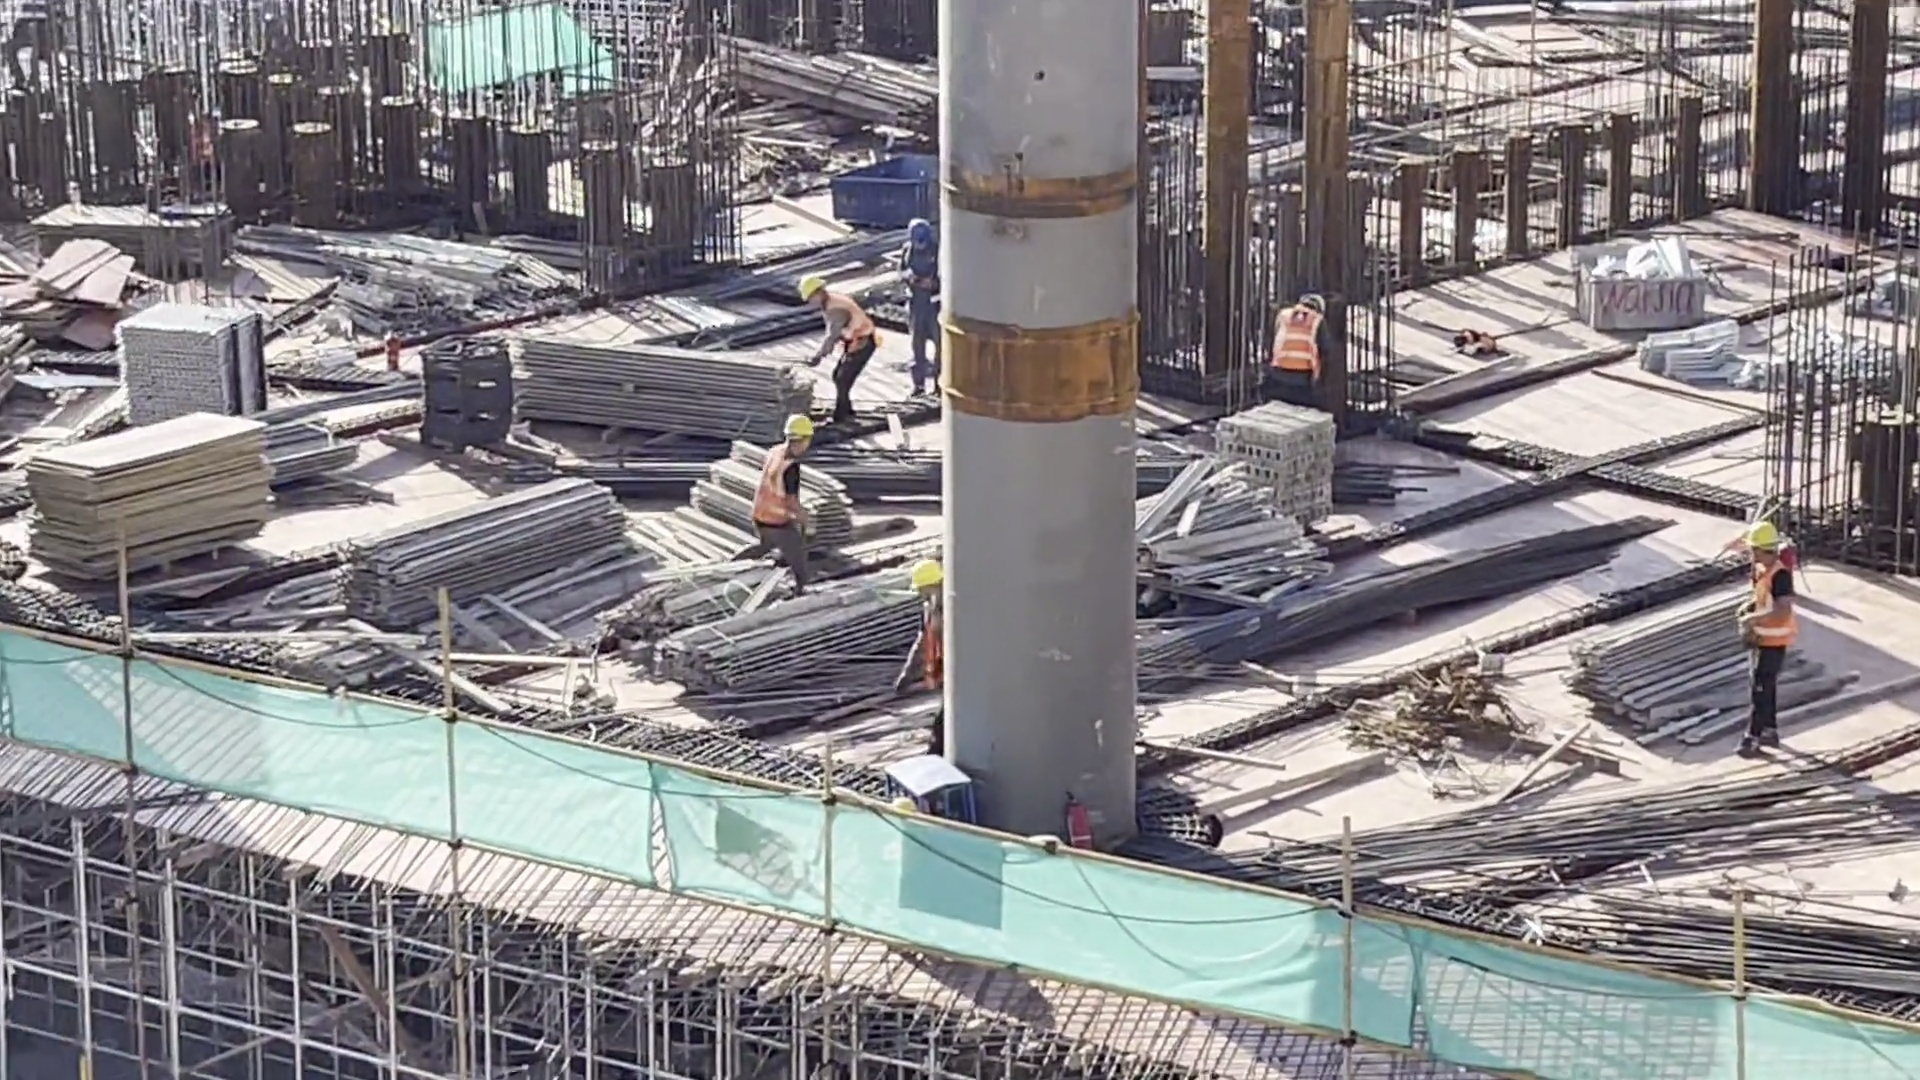board: (73, 392, 266, 592), (71, 189, 261, 274), (41, 246, 119, 357)
helmet: (798, 277, 848, 304), (1308, 292, 1343, 324), (1741, 517, 1771, 551), (909, 226, 936, 262), (913, 562, 944, 591), (778, 419, 809, 444)
hopper: (1559, 242, 1701, 322), (834, 149, 943, 237)
person: (1728, 515, 1786, 740), (773, 415, 818, 615), (819, 258, 873, 413), (908, 546, 953, 726), (901, 203, 941, 391), (1276, 280, 1321, 391), (16, 1, 73, 65)
rebar: (1271, 720, 1920, 1058), (1118, 501, 1659, 661), (519, 443, 1471, 510), (703, 195, 938, 296)
scaffold: (128, 302, 251, 431)
vest: (1733, 551, 1799, 646), (1274, 311, 1323, 387), (739, 459, 798, 516), (891, 257, 931, 326), (829, 282, 863, 354), (929, 577, 944, 691)
